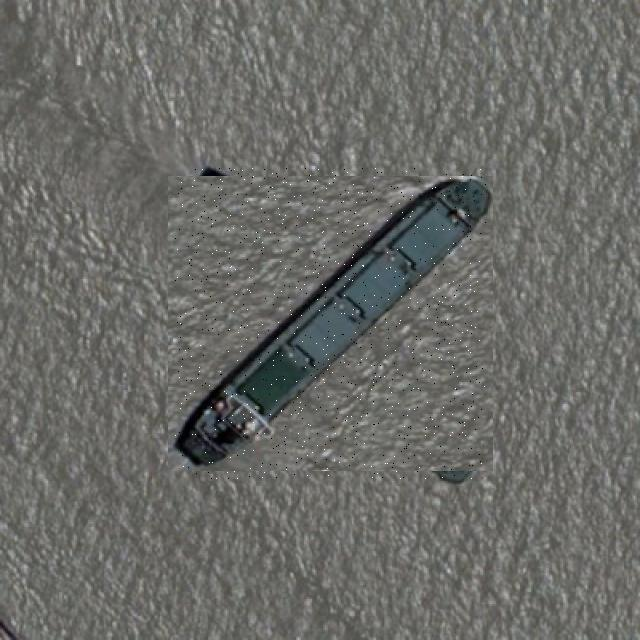boat: (175, 168, 486, 479)
